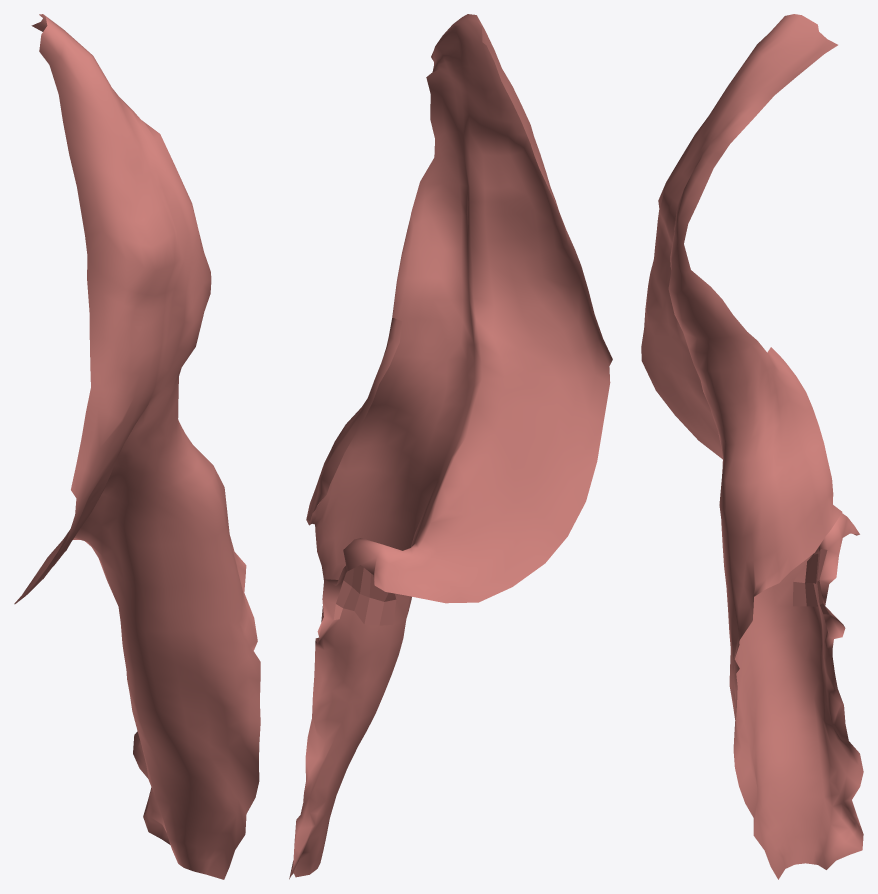
3 renders of one model, left to right at view 1: azimuth 30°, elevation 25°; view 2: azimuth 150°, elevation 25°; view 3: azimuth 270°, elevation 25°, orthographic. The views are drawn at different scales.
Visible parts, largest first — view 1: ZA_38c9ff2d7c11204d; view 2: ZA_38c9ff2d7c11204d; view 3: ZA_38c9ff2d7c11204d.
Boxes of the visible parts, x1,y1,x2,y2 form: ZA_38c9ff2d7c11204d: [14, 14, 260, 879]; ZA_38c9ff2d7c11204d: [289, 14, 612, 879]; ZA_38c9ff2d7c11204d: [641, 14, 863, 879].
Size of the model in its own units: 0.0971 by 0.337 by 0.0857.
